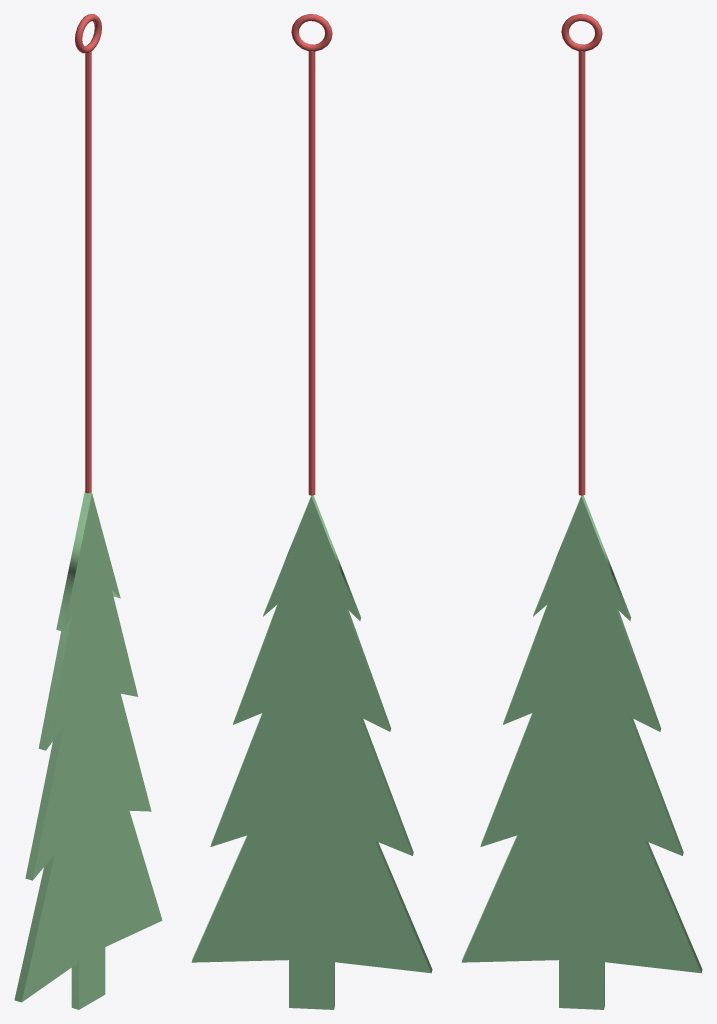
Rendered from air-freshener-CkJDlxRZ.glb.
The picture shows the model from 3 angles, left to right: view 1: azimuth 30°, elevation 25°; view 2: azimuth 150°, elevation 25°; view 3: azimuth 330°, elevation 25°; orthographic projection.
Visible parts, largest first — view 1: Freshener; view 2: Freshener; view 3: Freshener.
Boxes of the visible parts, x1,y1,x2,y2 form: Freshener: (14,14,162,1009); Freshener: (191,14,432,1009); Freshener: (461,14,702,1009).
Bounding box in the file's own units: 0.5944 × 2.9 × 0.2822.
